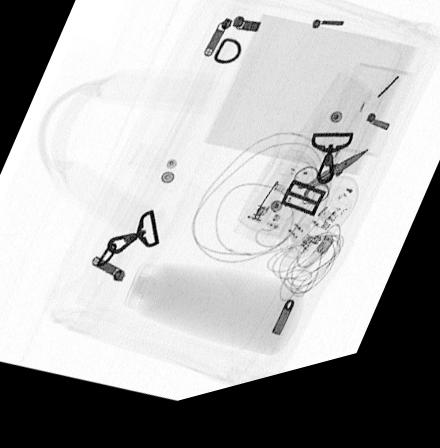Scissors: (291, 167, 371, 221)
